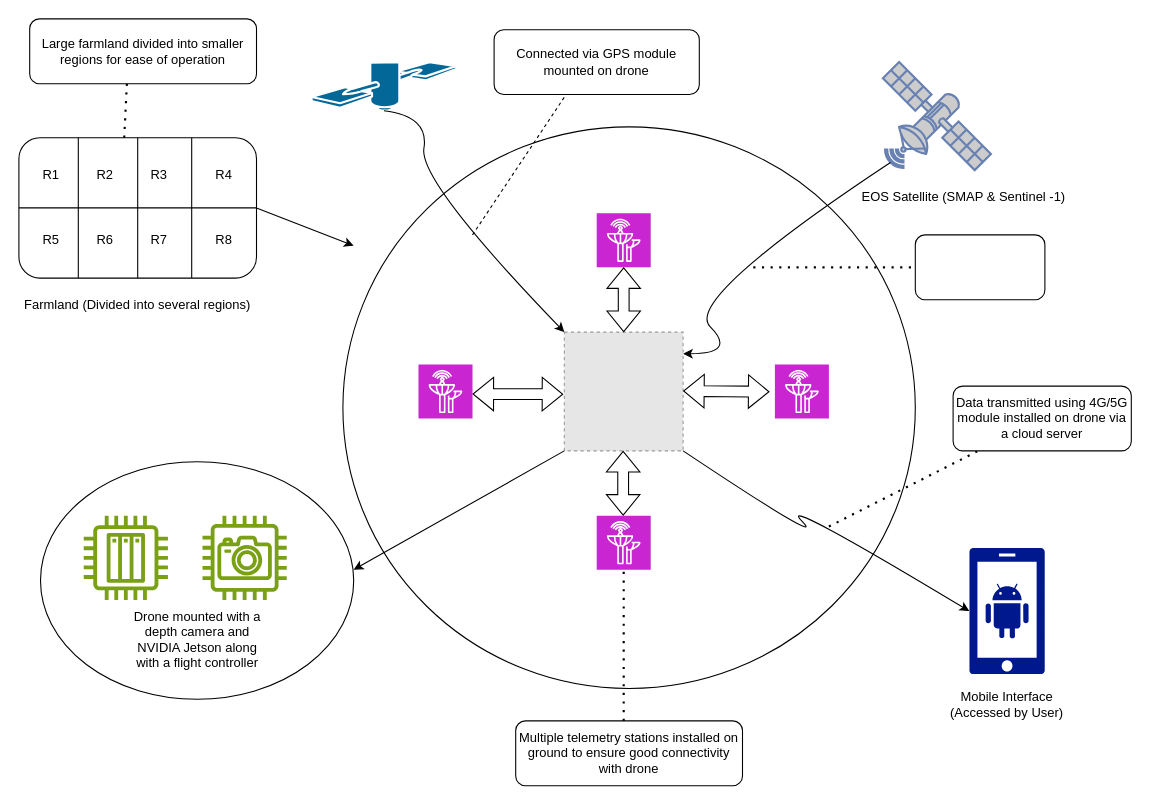
This 1150x805 diagram has some shape labels left out. Grey dashed boxes stand in for pictures. The box of each missing label's shape, as (x1, y1, x2, y2) in pixels:
GPS Satellite: (310, 60, 457, 111)
Sent via a cloud server: (914, 234, 1045, 300)
